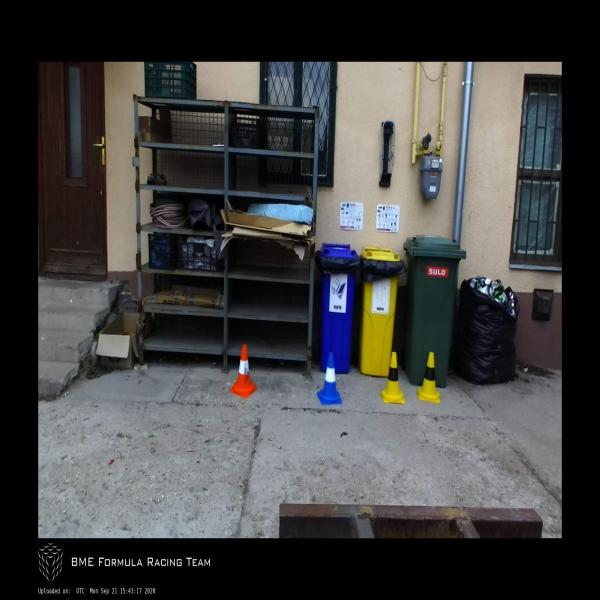blue_cone: (317, 352, 342, 405)
orange_cone: (229, 344, 257, 398)
yellow_cone: (381, 352, 405, 404), (417, 352, 440, 403)
